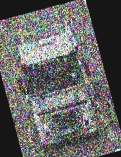truck: (6, 19, 106, 151)
